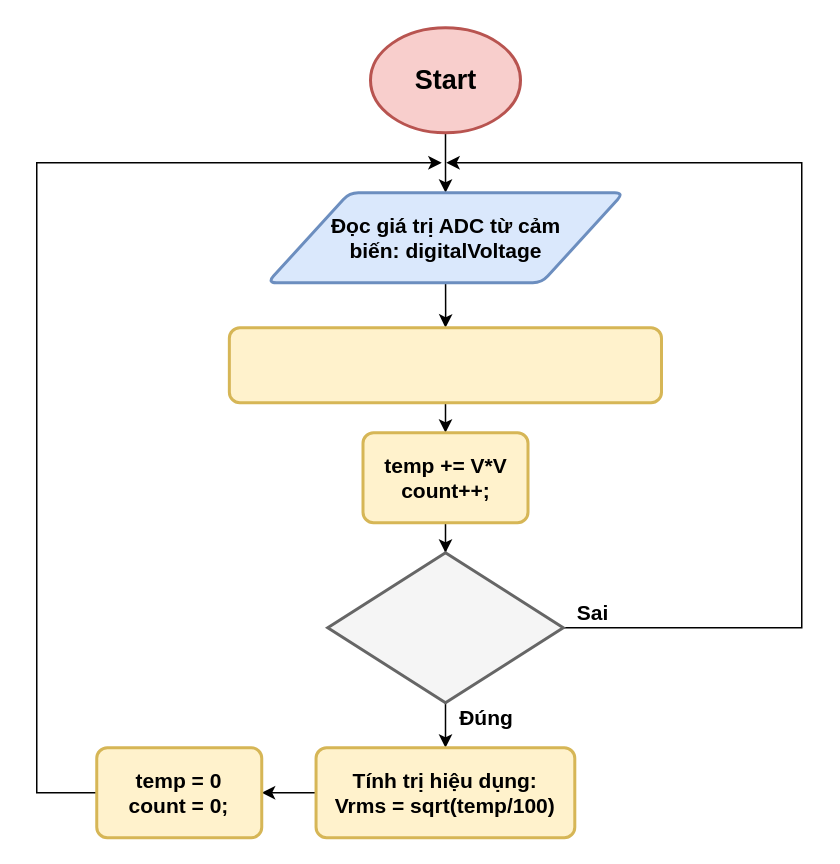
Some shapes in this 840 by 864 pixel diagram are drawn without their labels. The shapes that lost their labels are listed below. From the top down, each one's box as (x1, y1, x2, y2) in pixels, then its label:
(227, 326, 662, 404): Chuyển giá trị ADC sang điện áp tức thời: V = (digitalVoltage-2982)/981*250
(326, 550, 564, 704): count = 100
